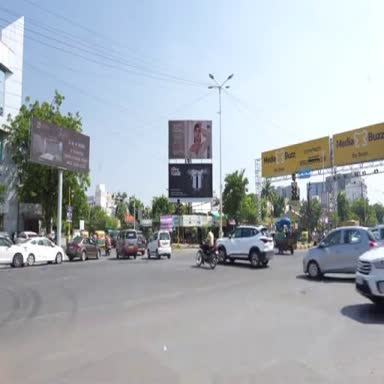Car: (303, 226, 377, 278), (216, 226, 274, 267), (356, 247, 383, 306), (21, 237, 64, 266), (67, 237, 101, 261), (0, 237, 26, 267), (147, 231, 171, 259), (116, 230, 138, 259), (371, 224, 383, 246), (16, 232, 38, 243), (137, 231, 146, 254), (108, 231, 118, 247), (0, 232, 11, 241)
